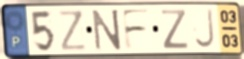5: (29, 9, 57, 53)
F: (120, 7, 152, 52)
J: (193, 7, 217, 50)
N: (91, 8, 124, 53)
Z: (57, 9, 89, 52), (160, 8, 190, 51)
